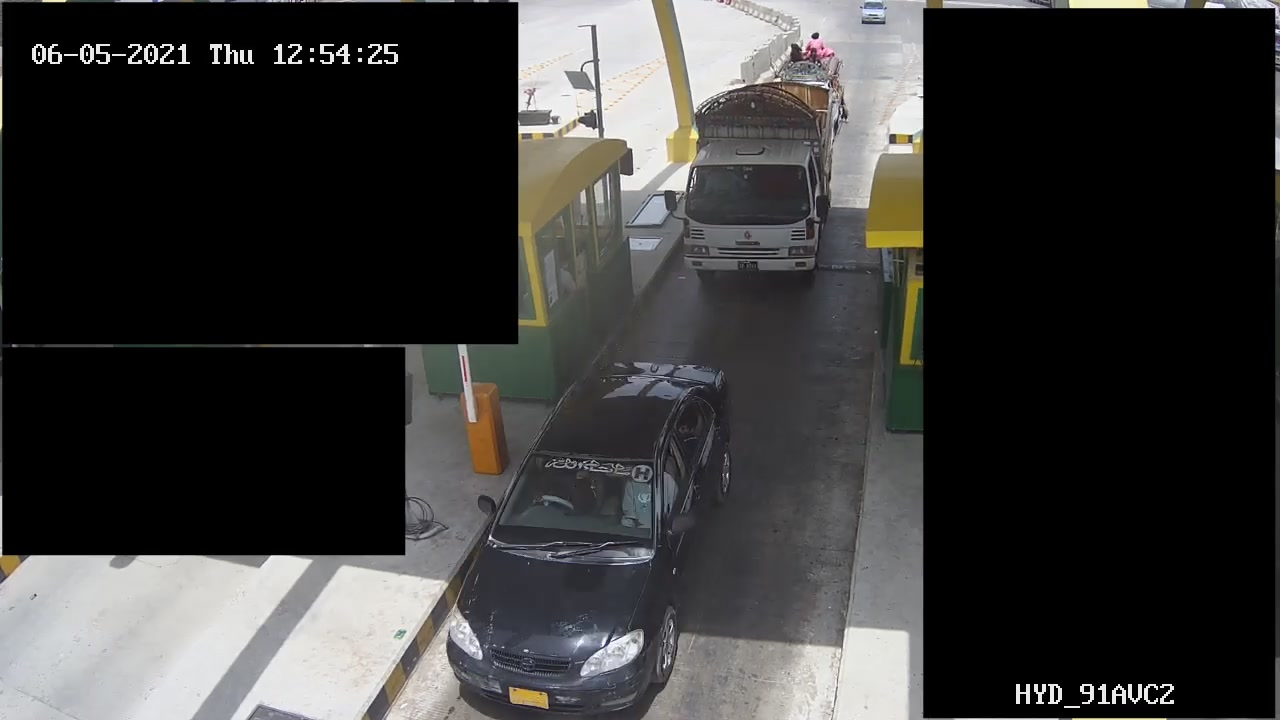F3: (681, 78, 840, 296)
